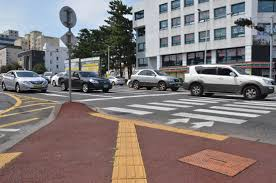guide_blocks: (111, 121, 146, 183), (168, 127, 223, 140), (1, 151, 22, 171), (129, 118, 162, 129), (93, 113, 122, 122)
